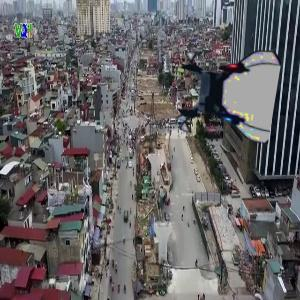drone: (174, 43, 277, 146)
